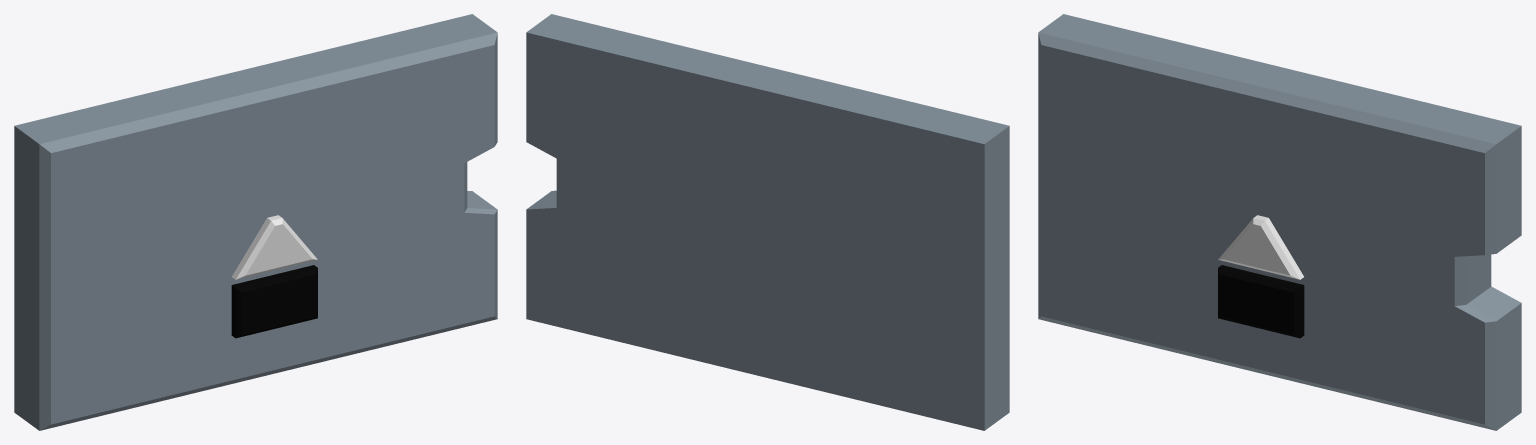
3 views of the same model, side by side, from view 1: azimuth 30°, elevation 25°; view 2: azimuth 150°, elevation 25°; view 3: azimuth 330°, elevation 25° (orthographic).
Parts seen in each view (by area): view 1: Cube.002; view 2: Cube.002; view 3: Cube.002.
Part boxes in pixels (left/top/right/bottom): Cube.002: left=14, top=14, right=497, bottom=430; Cube.002: left=526, top=14, right=1009, bottom=430; Cube.002: left=1038, top=14, right=1521, bottom=430.
Size of the model in its own units: 138 by 82.34 by 18.56.
